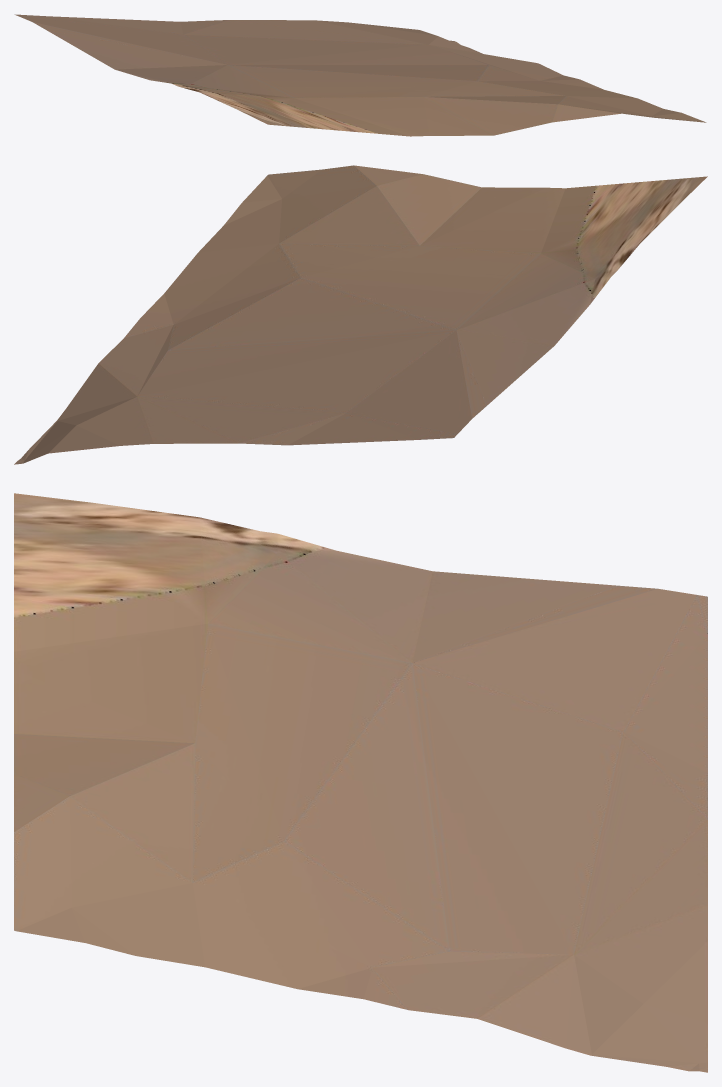
The picture shows the model from 3 angles, top to bottom: view 1: azimuth 30°, elevation 25°; view 2: azimuth 150°, elevation 25°; view 3: azimuth 270°, elevation 25°; orthographic projection. The views are drawn at different scales.
Bounding box in the file's own units: 1.04 × 0.4753 × 1.04.
Materials: 3 (3 with a texture image).
